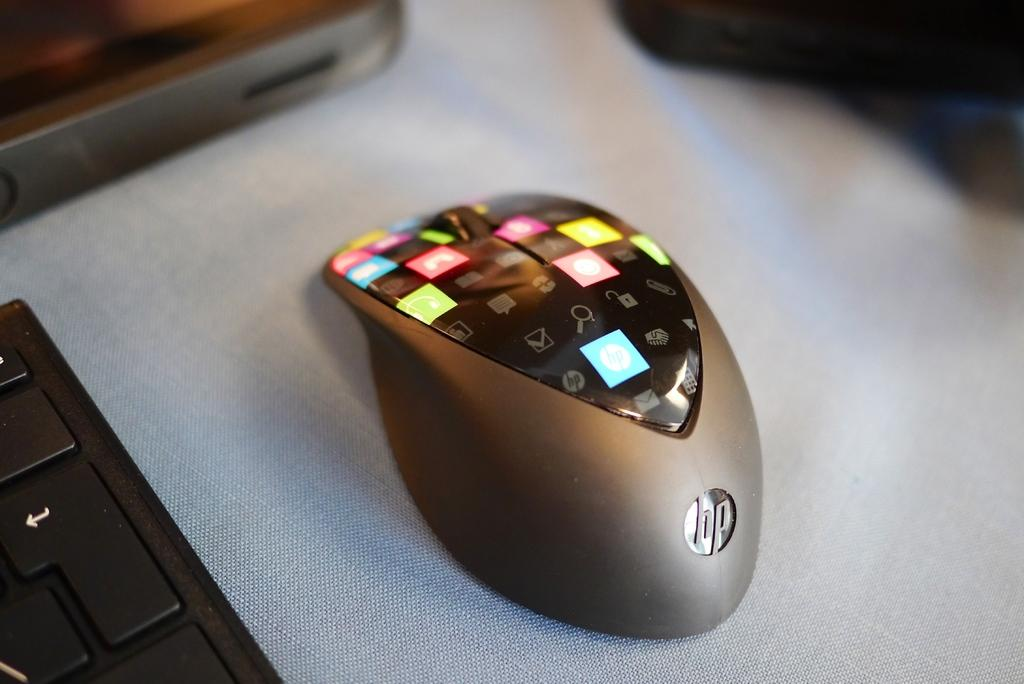Computer-mouse: (325, 183, 762, 639)
